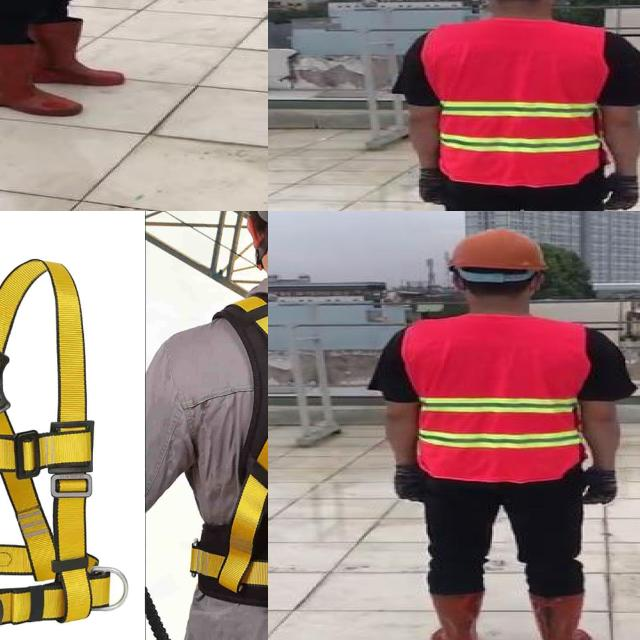Harness: (0, 254, 129, 638), (187, 290, 268, 616)
boots: (0, 35, 83, 121), (41, 16, 128, 87), (529, 591, 596, 640), (424, 591, 484, 640)
hand_glove: (412, 162, 449, 209), (579, 467, 622, 507), (604, 173, 640, 211), (396, 463, 426, 507)
head_helmet: (442, 226, 552, 274)
person: (365, 225, 640, 640), (384, 0, 640, 211), (0, 0, 136, 116)
vest: (426, 19, 608, 189), (403, 313, 588, 478)
